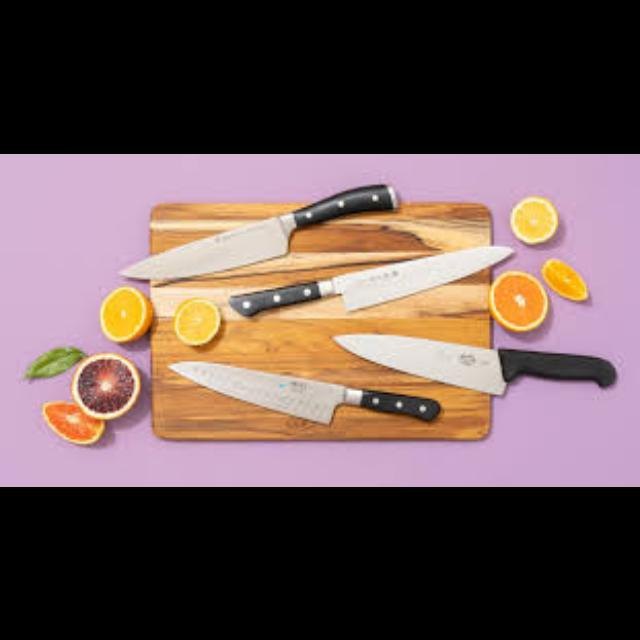Knife: (118, 182, 396, 280), (228, 244, 514, 316), (332, 331, 614, 394), (168, 360, 440, 424)
